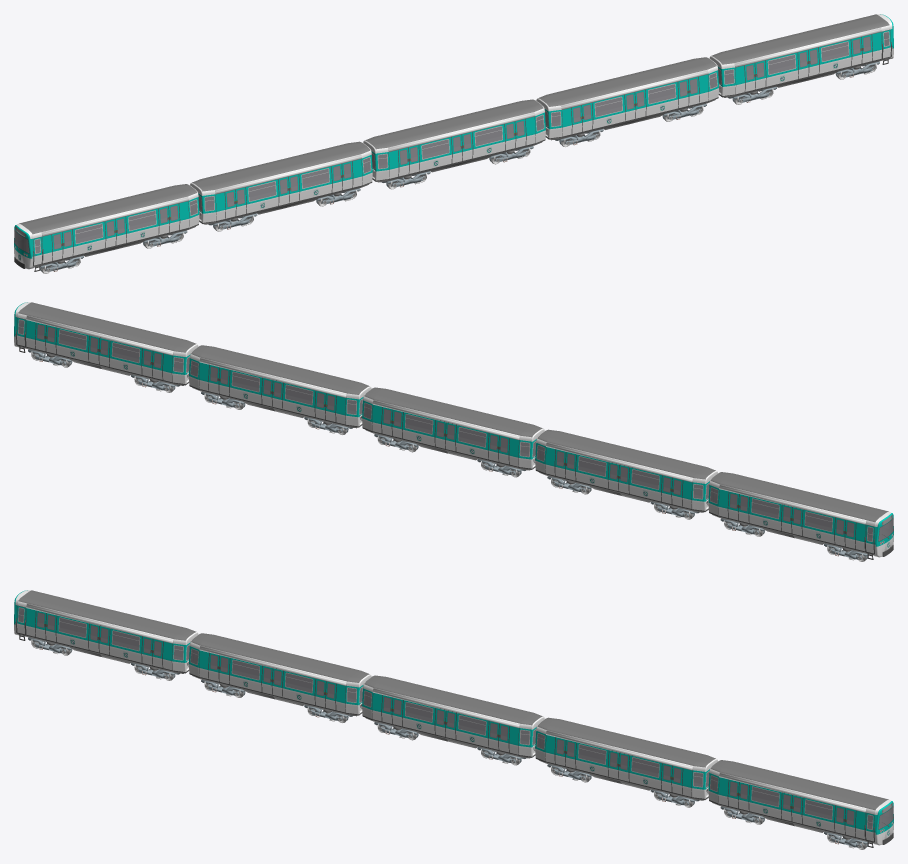
File: RATP+MF77.glb
3 renders of one model, top to bottom at view 1: azimuth 30°, elevation 25°; view 2: azimuth 150°, elevation 25°; view 3: azimuth 330°, elevation 25°, orthographic.
Parts seen in each view (by area): view 1: Groupe#46 (×10), Groupe#50 (×4), Groupe#60; view 2: Groupe#46 (×10), Groupe#50 (×4), Groupe#60; view 3: Groupe#46 (×10), Groupe#50 (×4), Groupe#60.
Part boxes in pixels (x1,y1,x2,y2): Groupe#46 (×10): (34,20,882,265); Groupe#50 (×4): (195,56,735,224); Groupe#60: (18,227,33,269); Groupe#46 (×10): (25,308,873,553); Groupe#50 (×4): (172,344,712,512); Groupe#60: (874,515,889,557); Groupe#46 (×10): (25,596,873,841); Groupe#50 (×4): (172,632,712,800); Groupe#60: (874,803,889,845).
Size of the model in its own units: 74.9 by 3.82 by 2.64.
Materials: 26 (1 with a texture image).
